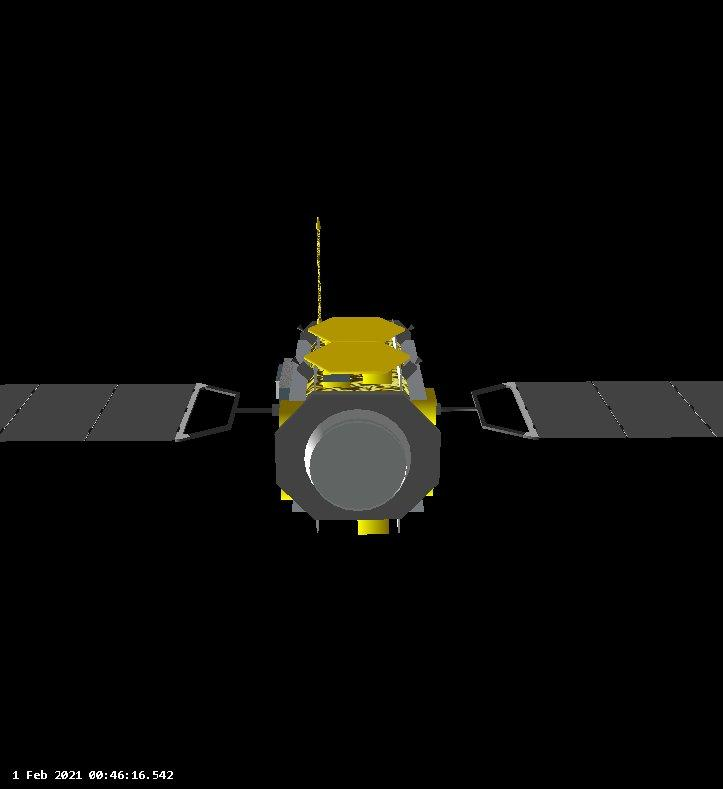antenna: (313, 212, 326, 329)
body: (276, 311, 445, 534)
solar: (506, 377, 723, 442), (0, 380, 204, 447)
thruster: (309, 418, 408, 514), (295, 324, 305, 333), (290, 357, 300, 366), (414, 357, 423, 366), (406, 324, 416, 331)
